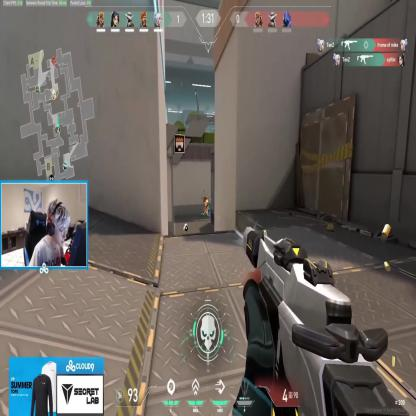enemy: (205, 197, 209, 215)
enemy_head: (206, 197, 208, 201)
